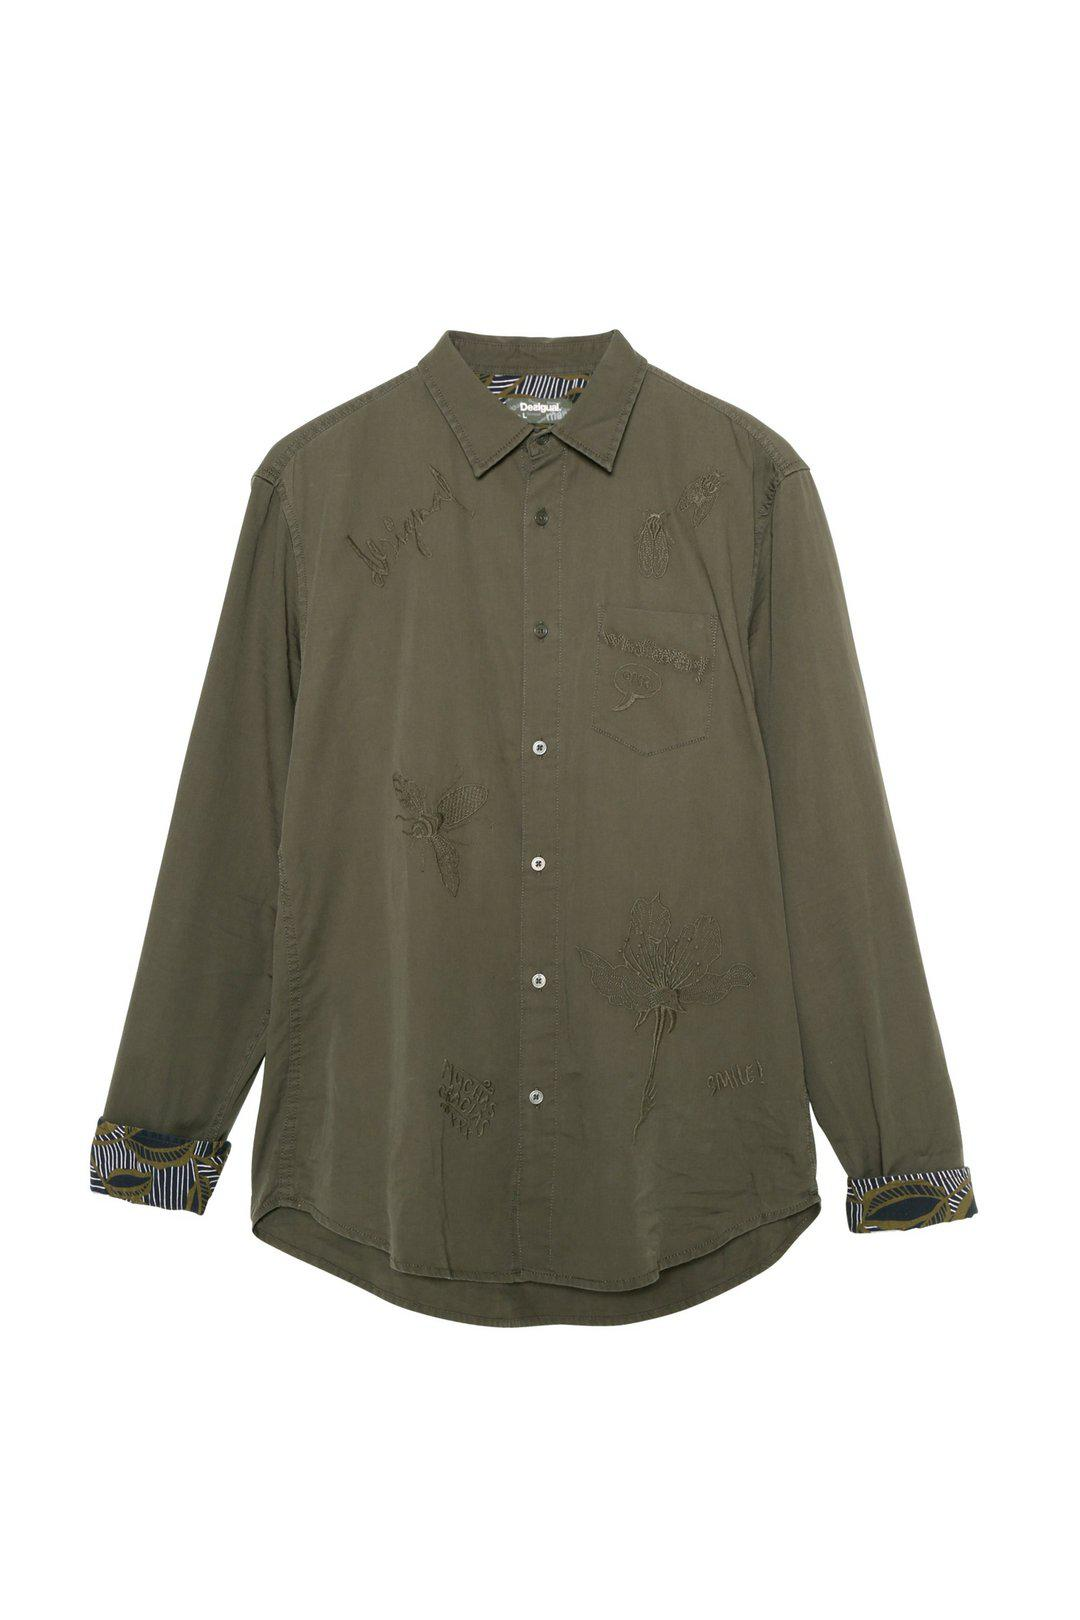teeshirt: (76, 319, 978, 1342)
